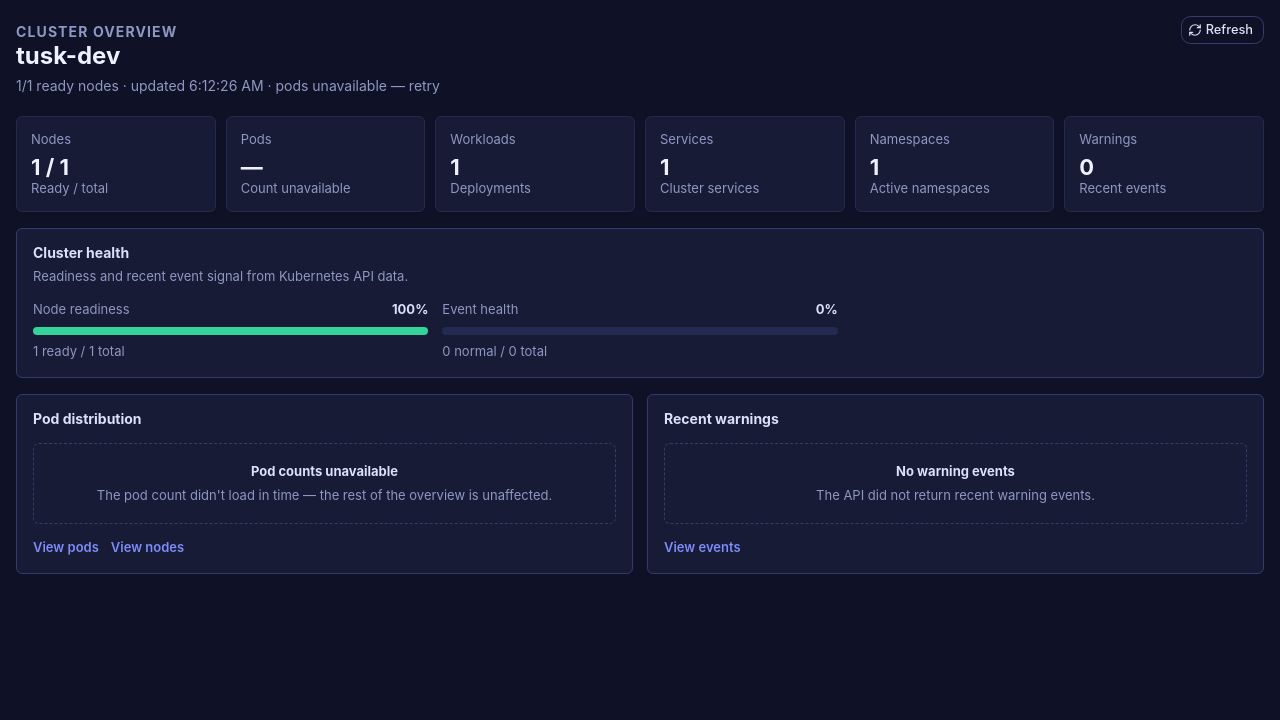
Scenario: ClusterOverview partial degradation › recovers the missing section on refresh
Expected: the text "pods unavailable" is shown, [16,77,440,94]
Click the button with aria-label "Refresh cluster overview" at (1222,30), box [1181,16,1264,44]
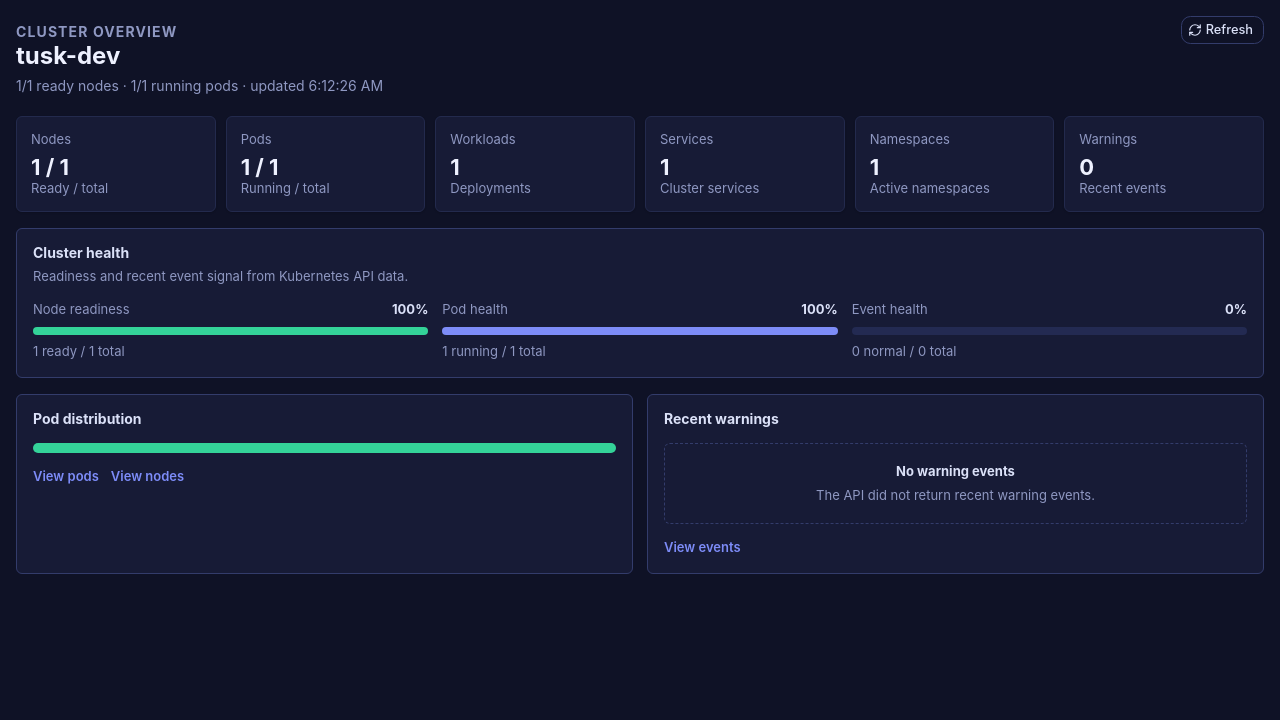
Expected: the text "1 / 1" is shown 2 times, [31,154,69,180]; [241,154,279,180]
Now the text "pods unavailable" is gone
